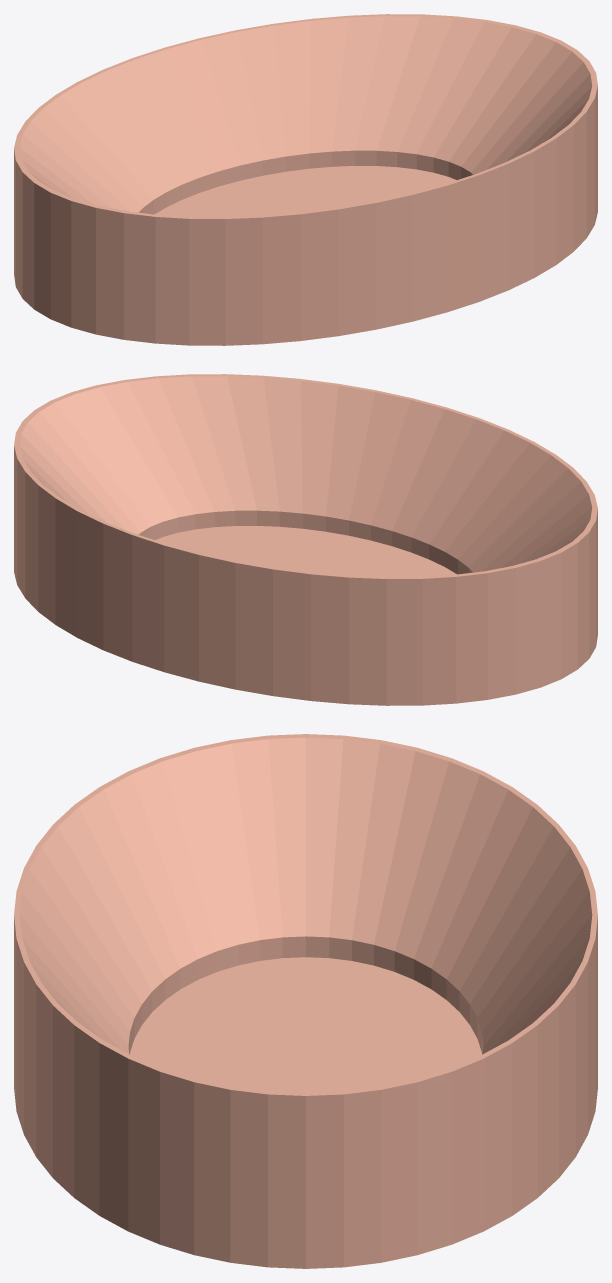
The model's file is modelo.glb.
3 renders of one model, top to bottom at view 1: azimuth 30°, elevation 25°; view 2: azimuth 150°, elevation 25°; view 3: azimuth 270°, elevation 25°, orthographic. The views are drawn at different scales.
Size of the model in its own units: 0.2244 by 0.05 by 0.153.
